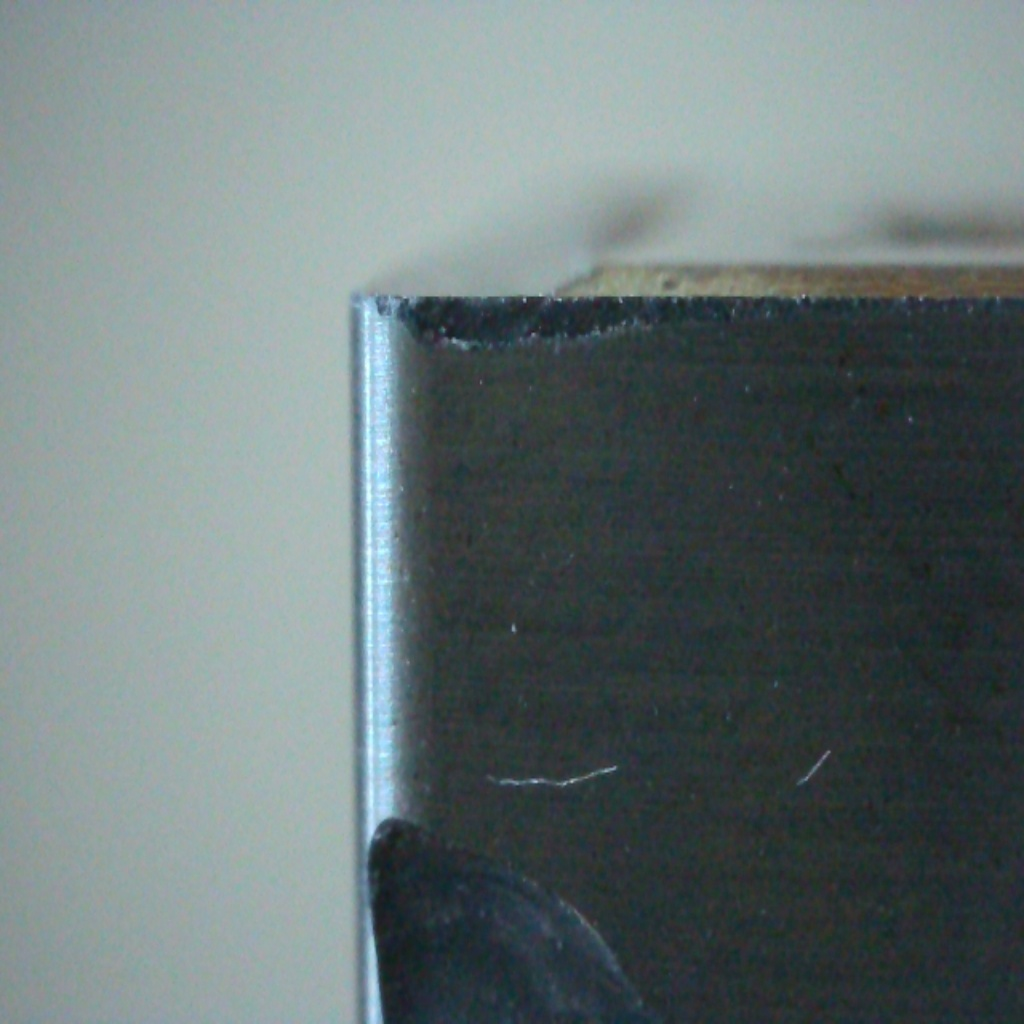flank_wear: (370, 290, 669, 356)
